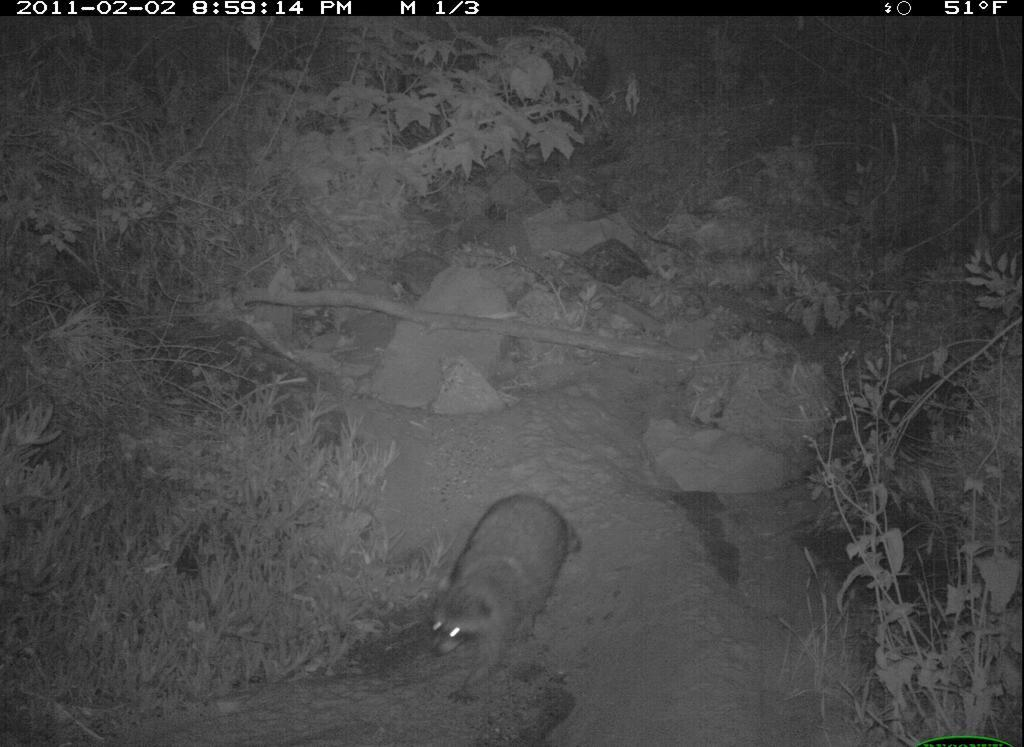raccoon: (428, 479, 605, 702)
